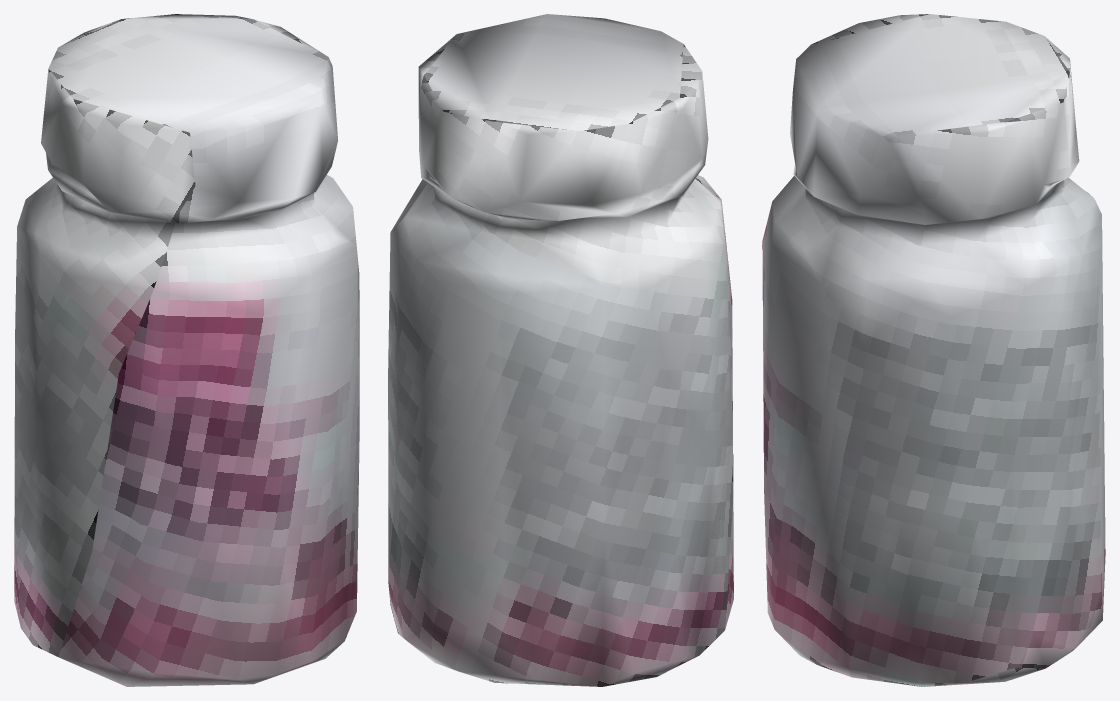
File: DIM_CDG-low.glb
3 renders of one model, left to right at view 1: azimuth 30°, elevation 25°; view 2: azimuth 150°, elevation 25°; view 3: azimuth 270°, elevation 25°, orthographic.
Visible parts, largest first — view 1: DIM_CDG; view 2: DIM_CDG; view 3: DIM_CDG.
Part boxes in pixels (x1,y1,x2,y2): DIM_CDG: (14,14,359,686); DIM_CDG: (388,14,733,686); DIM_CDG: (762,14,1105,686).
Size of the model in its own units: 0.0477 by 0.0839 by 0.0472.
Materials: 1 (1 with a texture image).
